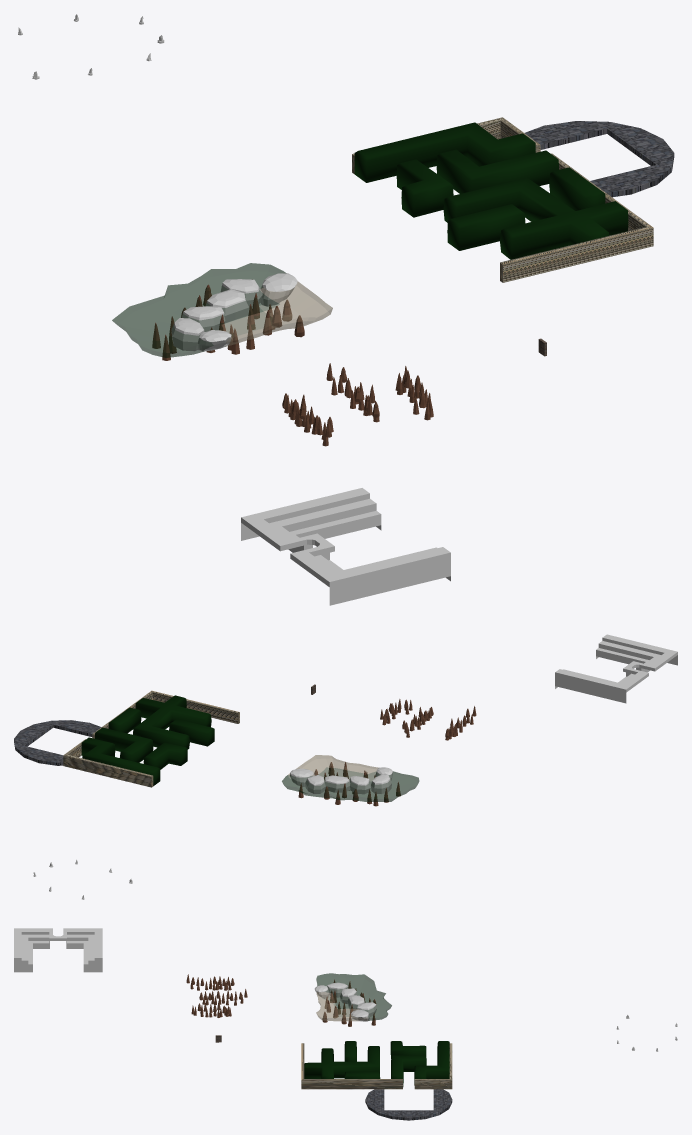
Rendered from DecoracionLaberinto.obj.
The picture shows the model from 3 angles, top to bottom: view 1: azimuth 30°, elevation 25°; view 2: azimuth 150°, elevation 25°; view 3: azimuth 270°, elevation 25°; orthographic projection. The views are drawn at different scales.
Parts seen in each view (by area): view 1: Cube.000_Cube.001, Cylinder_Cylinder.000, Cube.006_Cube.002_Cube.006_Cube.219, Circle.001, Cube.006_Cube.003, Icosphere.001_Icosphere.071, Cylinder.003_Cylinder.014; view 2: Cube.000_Cube.001, Cylinder_Cylinder.000, Cube.006_Cube.002_Cube.006_Cube.219, Circle.001, Cube.006_Cube.004, Cube.006_Cube.003; view 3: Cube.000_Cube.001, Cylinder_Cylinder.000, Cube.006_Cube.002_Cube.006_Cube.219, Circle.001, Cube.006_Cube.003, Cube.006_Cube.004.
Part boxes in pixels (<box>): Cube.000_Cube.001: <box>354,122,628,259</box>; Cylinder_Cylinder.000: <box>241,488,450,605</box>; Cube.006_Cube.002_Cube.006_Cube.219: <box>112,263,332,357</box>; Circle.001: <box>525,121,674,197</box>; Cube.006_Cube.003: <box>500,153,653,282</box>; Icosphere.001_Icosphere.071: <box>260,273,297,306</box>; Cylinder.003_Cylinder.014: <box>205,289,248,322</box>; Cube.000_Cube.001: <box>81,695,214,785</box>; Cylinder_Cylinder.000: <box>555,634,677,703</box>; Cube.006_Cube.002_Cube.006_Cube.219: <box>282,755,419,801</box>; Circle.001: <box>14,720,101,765</box>; Cube.006_Cube.004: <box>63,739,153,787</box>; Cube.006_Cube.003: <box>92,690,239,738</box>; Cube.000_Cube.001: <box>304,1041,449,1086</box>; Cylinder_Cylinder.000: <box>14,928,102,972</box>; Cube.006_Cube.002_Cube.006_Cube.219: <box>316,973,391,1021</box>; Circle.001: <box>365,1089,452,1120</box>; Cube.006_Cube.003: <box>301,1043,402,1089</box>; Cube.006_Cube.004: <box>414,1043,452,1089</box>.
Size of the model in its own units: 579 by 45.87 by 915.
